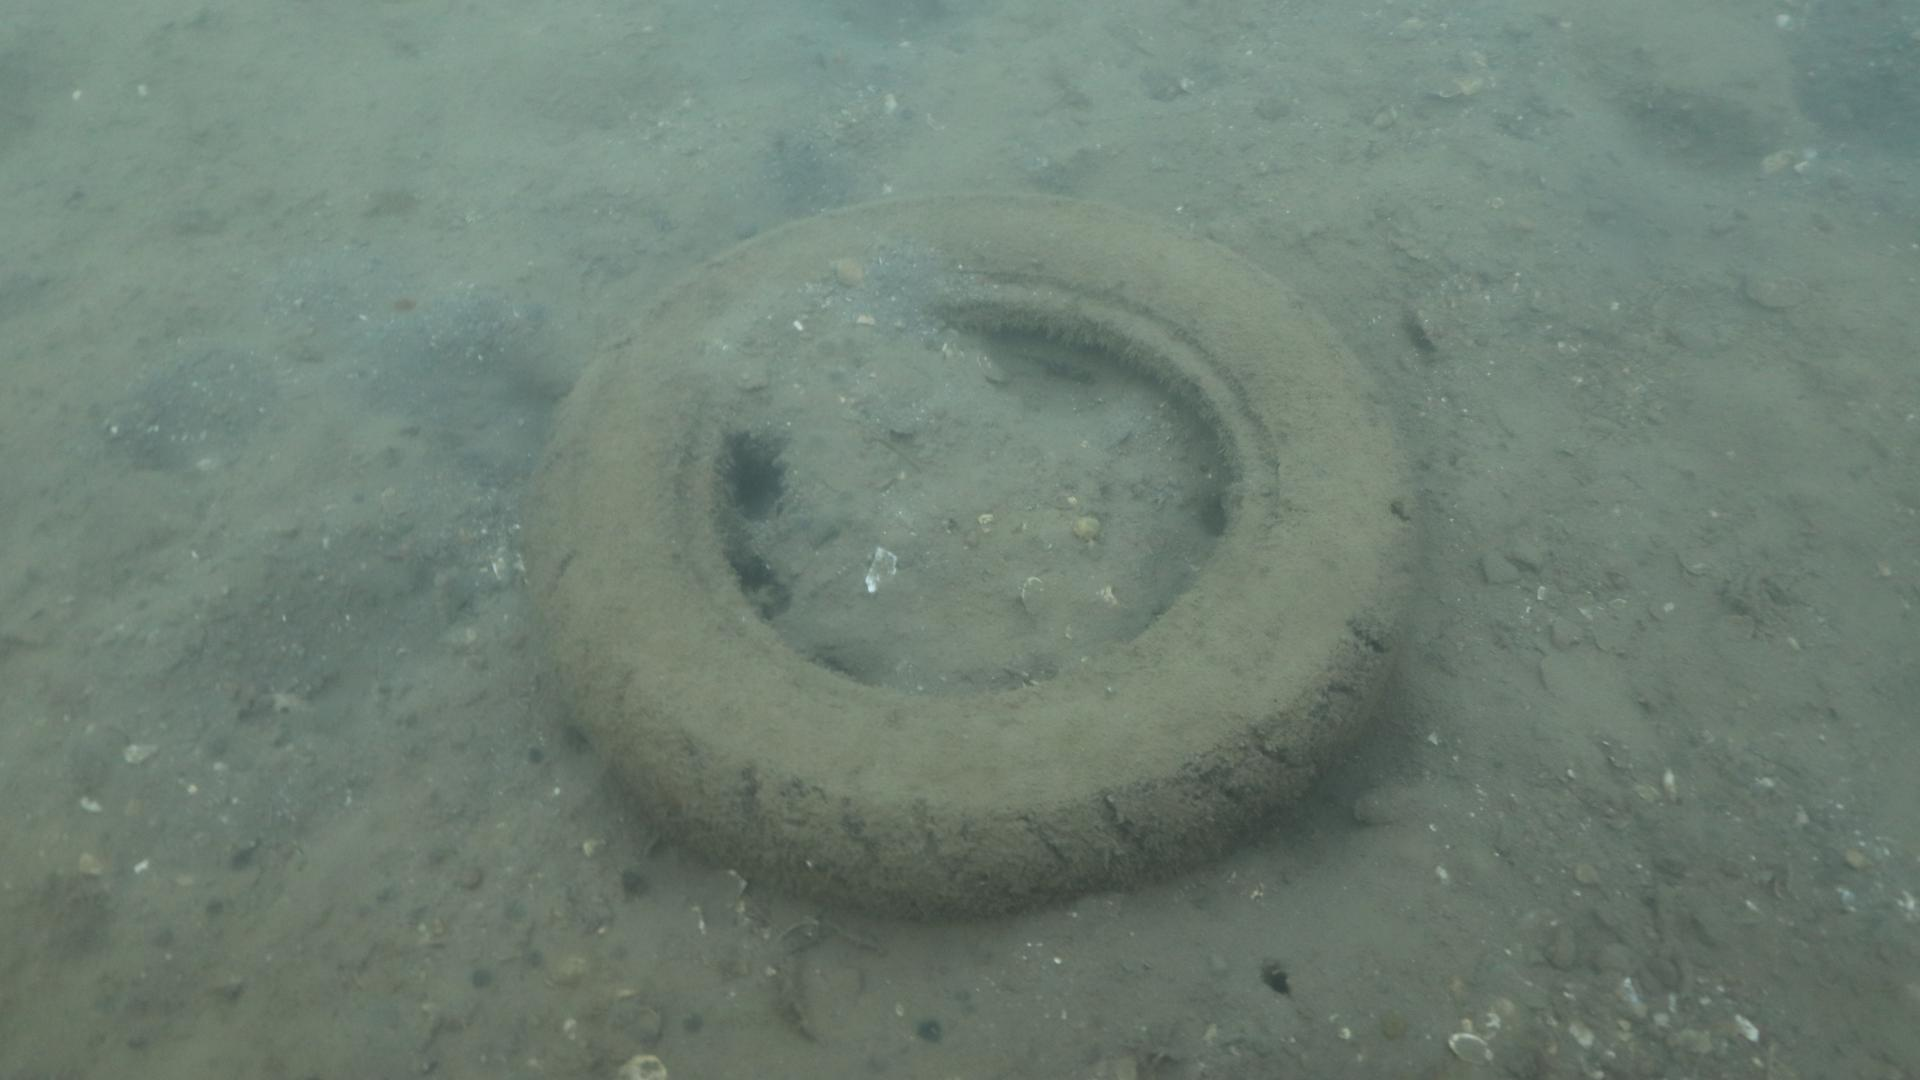tire: (517, 193, 1419, 919)
